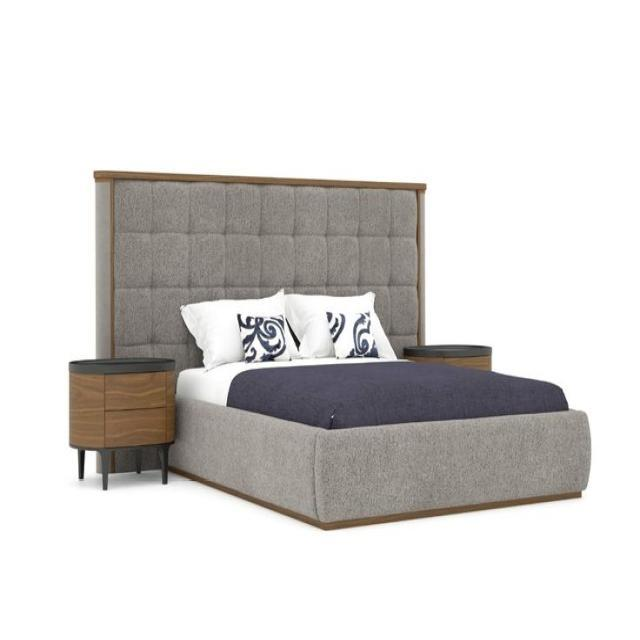obstacle: (92, 168, 591, 530), (68, 356, 176, 490)
